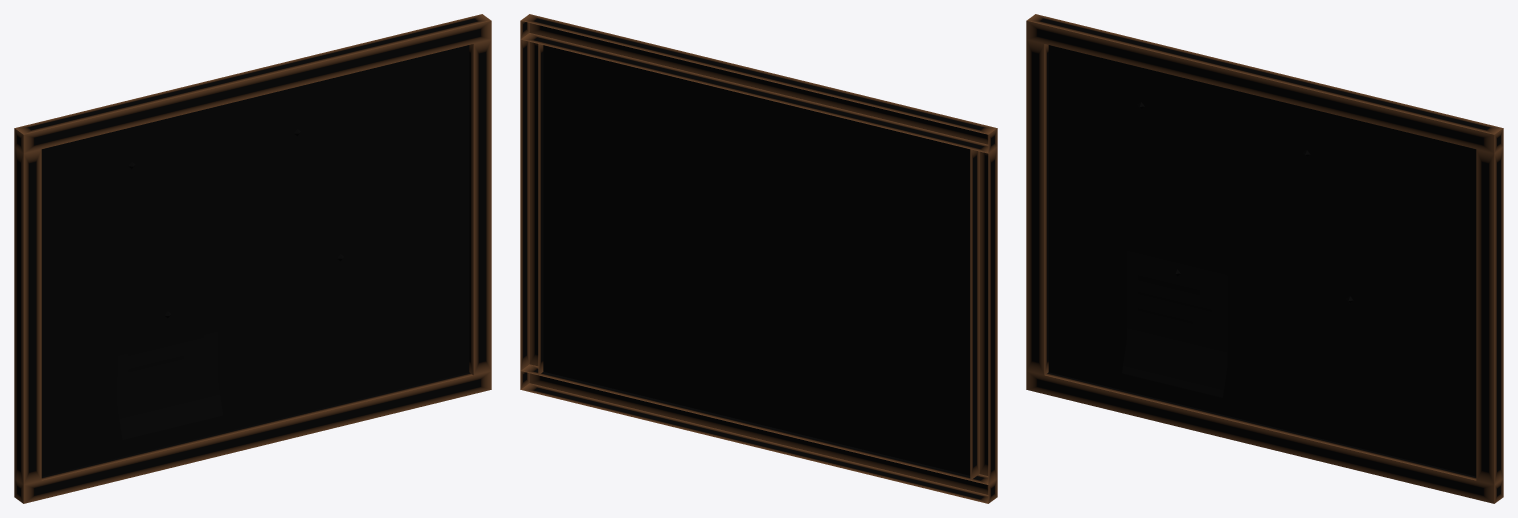
The model's file is notice_board.glb.
3 views of the same model, side by side, from view 1: azimuth 30°, elevation 25°; view 2: azimuth 150°, elevation 25°; view 3: azimuth 330°, elevation 25° (orthographic).
Visible parts, largest first — view 1: cork, notices, frame, print; view 2: cork, frame; view 3: cork, notices, frame, print.
Boxes of the visible parts, x1,y1,x2,y2 form: cork: [41, 45, 469, 476]; notices: [74, 104, 405, 439]; frame: [14, 14, 491, 503]; print: [85, 135, 389, 371]; cork: [543, 45, 970, 475]; frame: [520, 14, 997, 503]; cork: [1048, 45, 1476, 476]; notices: [1083, 80, 1414, 439]; frame: [1026, 14, 1503, 503]; print: [1094, 106, 1398, 352].
Size of the model in its own units: 0.65 by 0.49 by 0.026.
